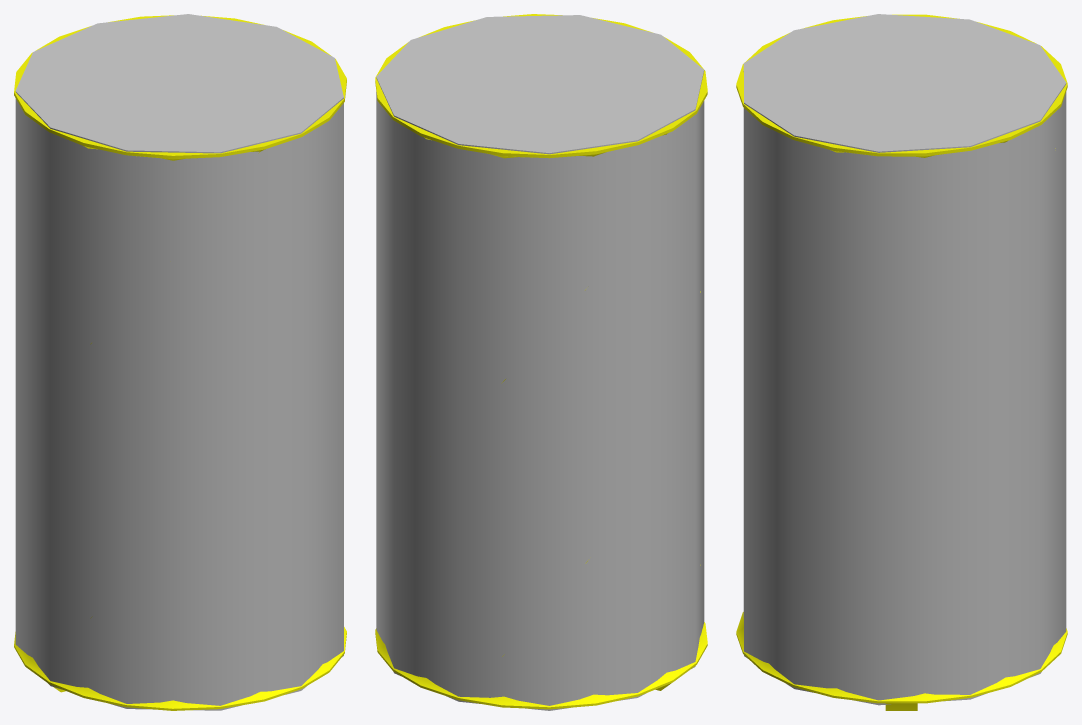
File: sm_hana_bas_parking_vent_fan.glb
3 views of the same model, side by side, from view 1: azimuth 30°, elevation 25°; view 2: azimuth 150°, elevation 25°; view 3: azimuth 270°, elevation 25° (orthographic).
Visible parts, largest first — view 1: sm_color_common, sm_hana_bas_parking_vent_fan; view 2: sm_color_common, sm_hana_bas_parking_vent_fan; view 3: sm_color_common, sm_hana_bas_parking_vent_fan.
Part boxes in pixels (bbox=[...]): sm_color_common: bbox=[15, 14, 343, 710]; sm_hana_bas_parking_vent_fan: bbox=[14, 15, 346, 710]; sm_color_common: bbox=[376, 15, 704, 710]; sm_hana_bas_parking_vent_fan: bbox=[375, 14, 707, 709]; sm_color_common: bbox=[743, 14, 1066, 705]; sm_hana_bas_parking_vent_fan: bbox=[736, 14, 1067, 710].
Bounding box in the file's own units: 0.5468 × 1.06 × 0.5523.
2 materials, 1 textured.
